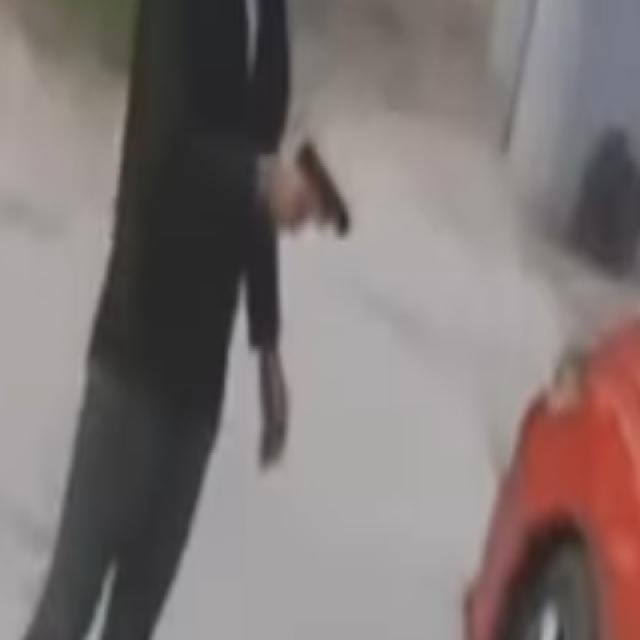FPistol: (292, 123, 357, 252)
